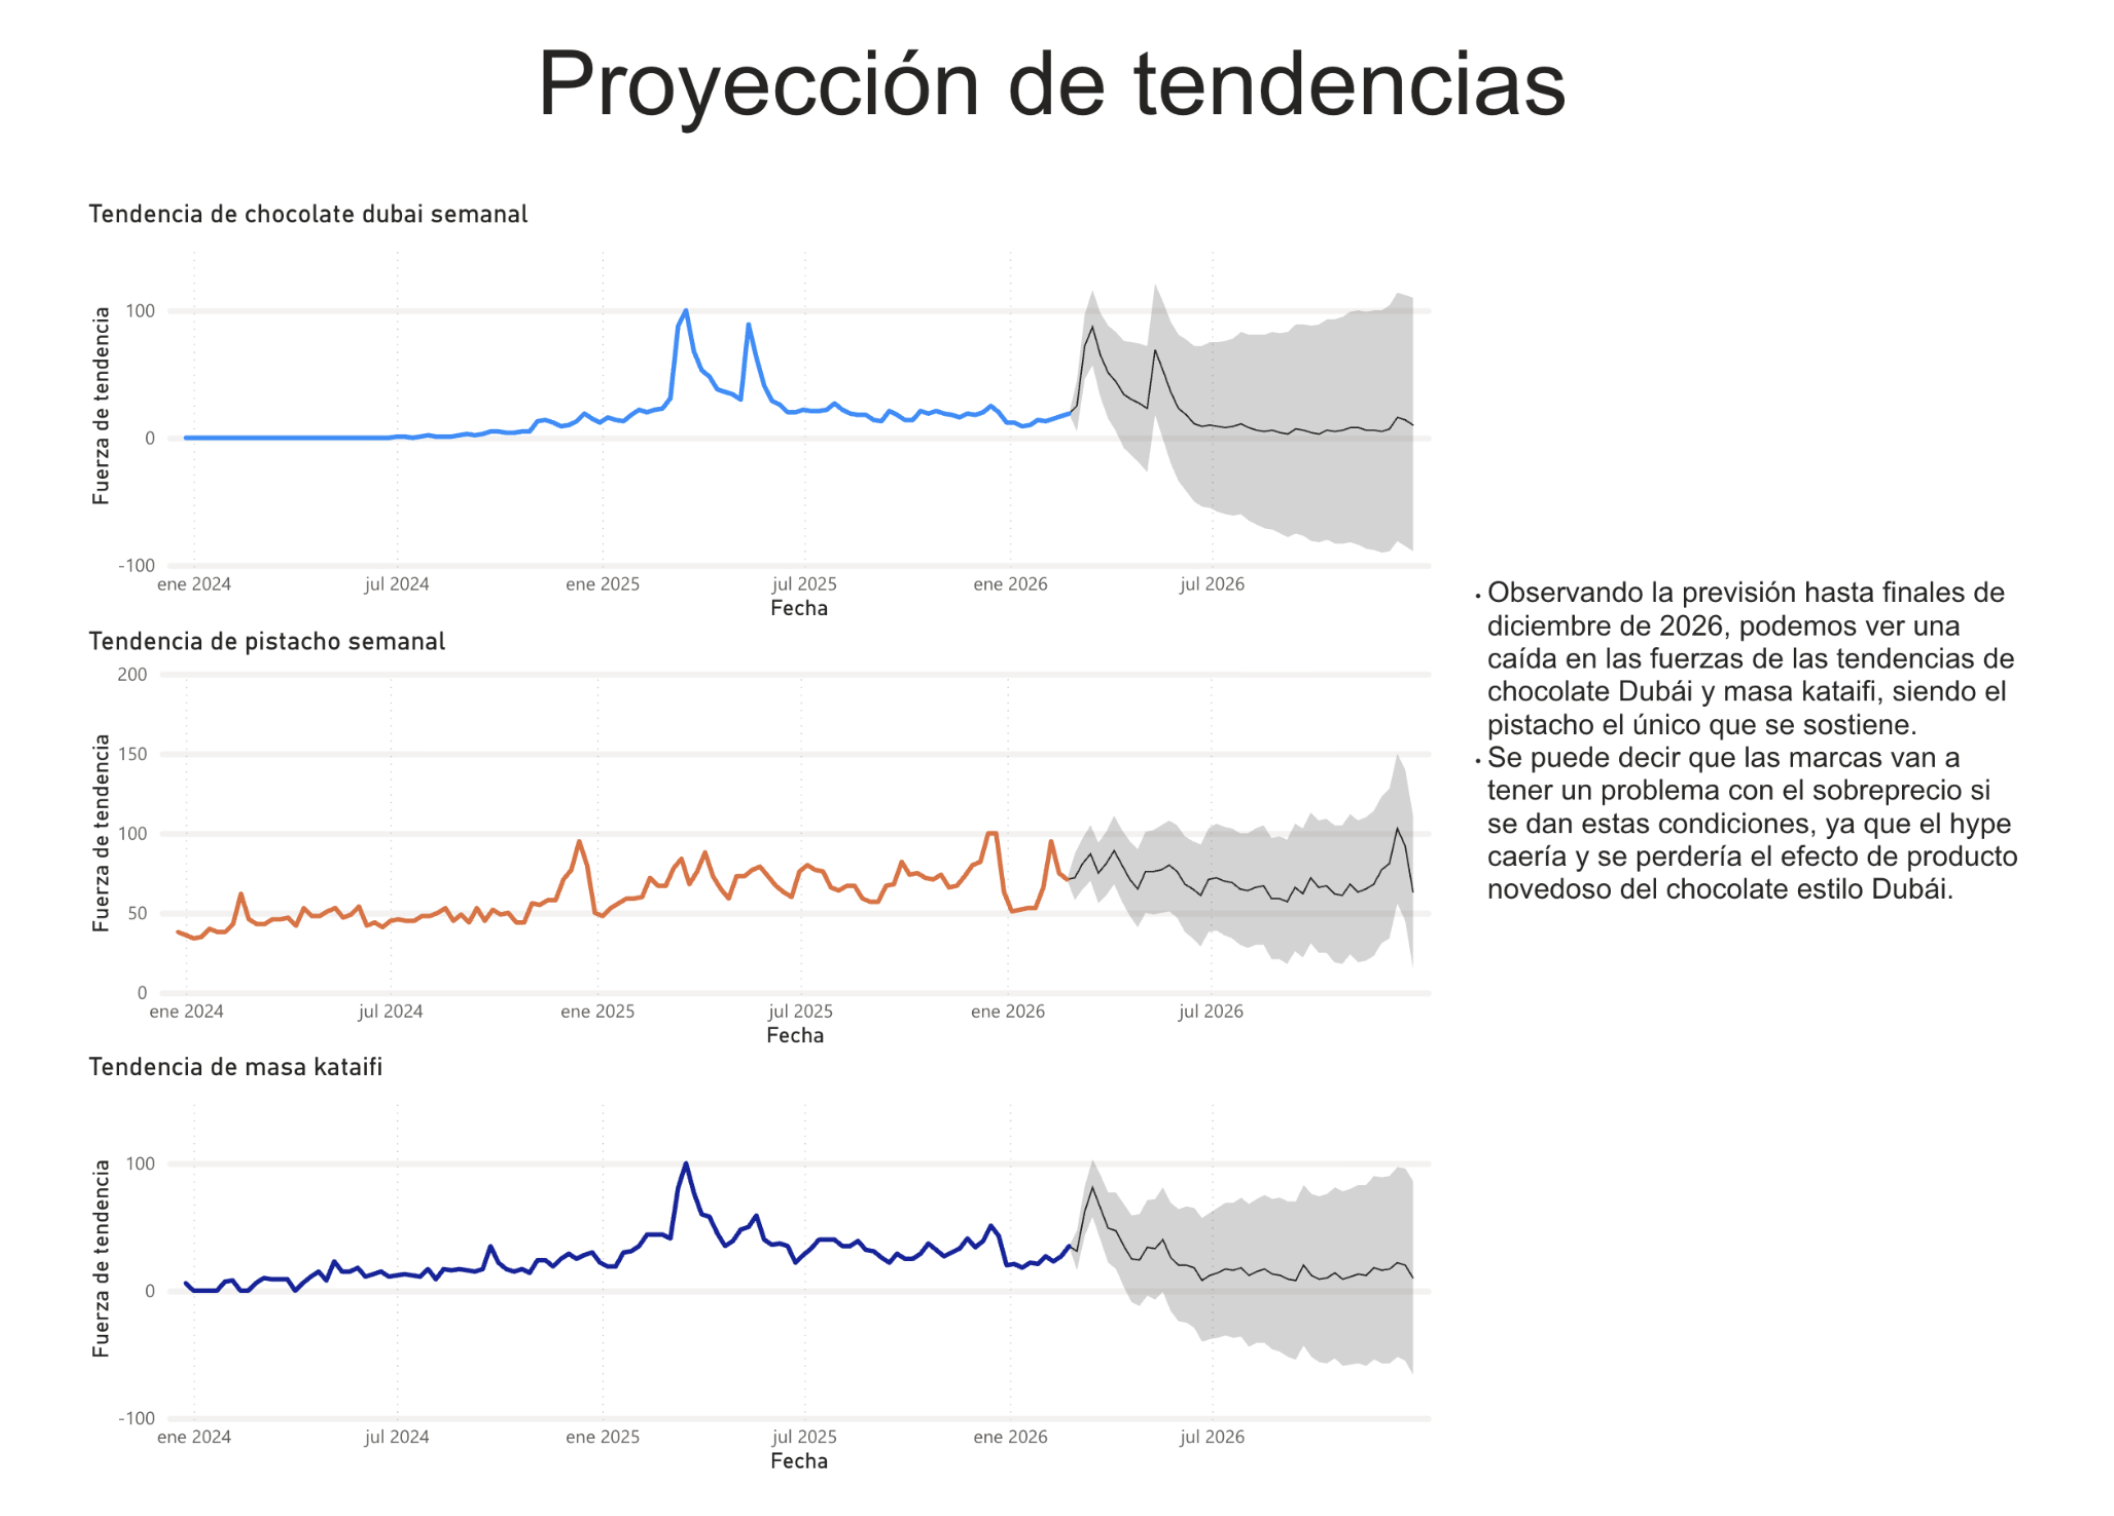

The page's visual inventory and layout, read from the dashboard file:
{"tool":"powerbi","page":{"name":"Forescat","canvas":[1280,950],"ordinal":5},"visuals":[{"type":"lineChart","title":"Tendencia de chocolate dubai semanal","fields":{"Y":["Sum(trends_chocolate_dubai_semanal.trend_chocolate_dubai)"],"Category":["Calendario.Fecha_Eje"]},"box":[0,116.2,893.7,277.9],"z":0},{"type":"lineChart","title":"Tendencia de pistacho semanal","fields":{"Category":["Calendario.Fecha_Eje"],"Y":["Sum(trends_chocolate_dubai_semanal.trend_pistacho)"]},"box":[0,394.1,893.7,277.9],"z":1000},{"type":"lineChart","title":"Tendencia de masa kataifi","fields":{"Category":["Calendario.Fecha_Eje"],"Y":["Sum(trends_chocolate_dubai_semanal.trend_kataifi)"]},"box":[0,672.1,893.7,277.9],"z":2000},{"type":"textbox","box":[893.7,355.8,375,238.4],"z":3000},{"type":"textbox","box":[292.3,0,694.8,81.5],"z":4000}]}

Visuals, with their boxes on the page's 1280x950 design canvas (x1, y1, x2, y2). These are canvas units, not pixel positions in the 2114x1516 screenshot, which may show the page scaled, cropped or inside an application window:
"Tendencia de chocolate dubai semanal" lineChart: (0,116,894,394)
"Tendencia de pistacho semanal" lineChart: (0,394,894,672)
"Tendencia de masa kataifi" lineChart: (0,672,894,950)
textbox: (894,356,1269,594)
textbox: (292,0,987,82)
